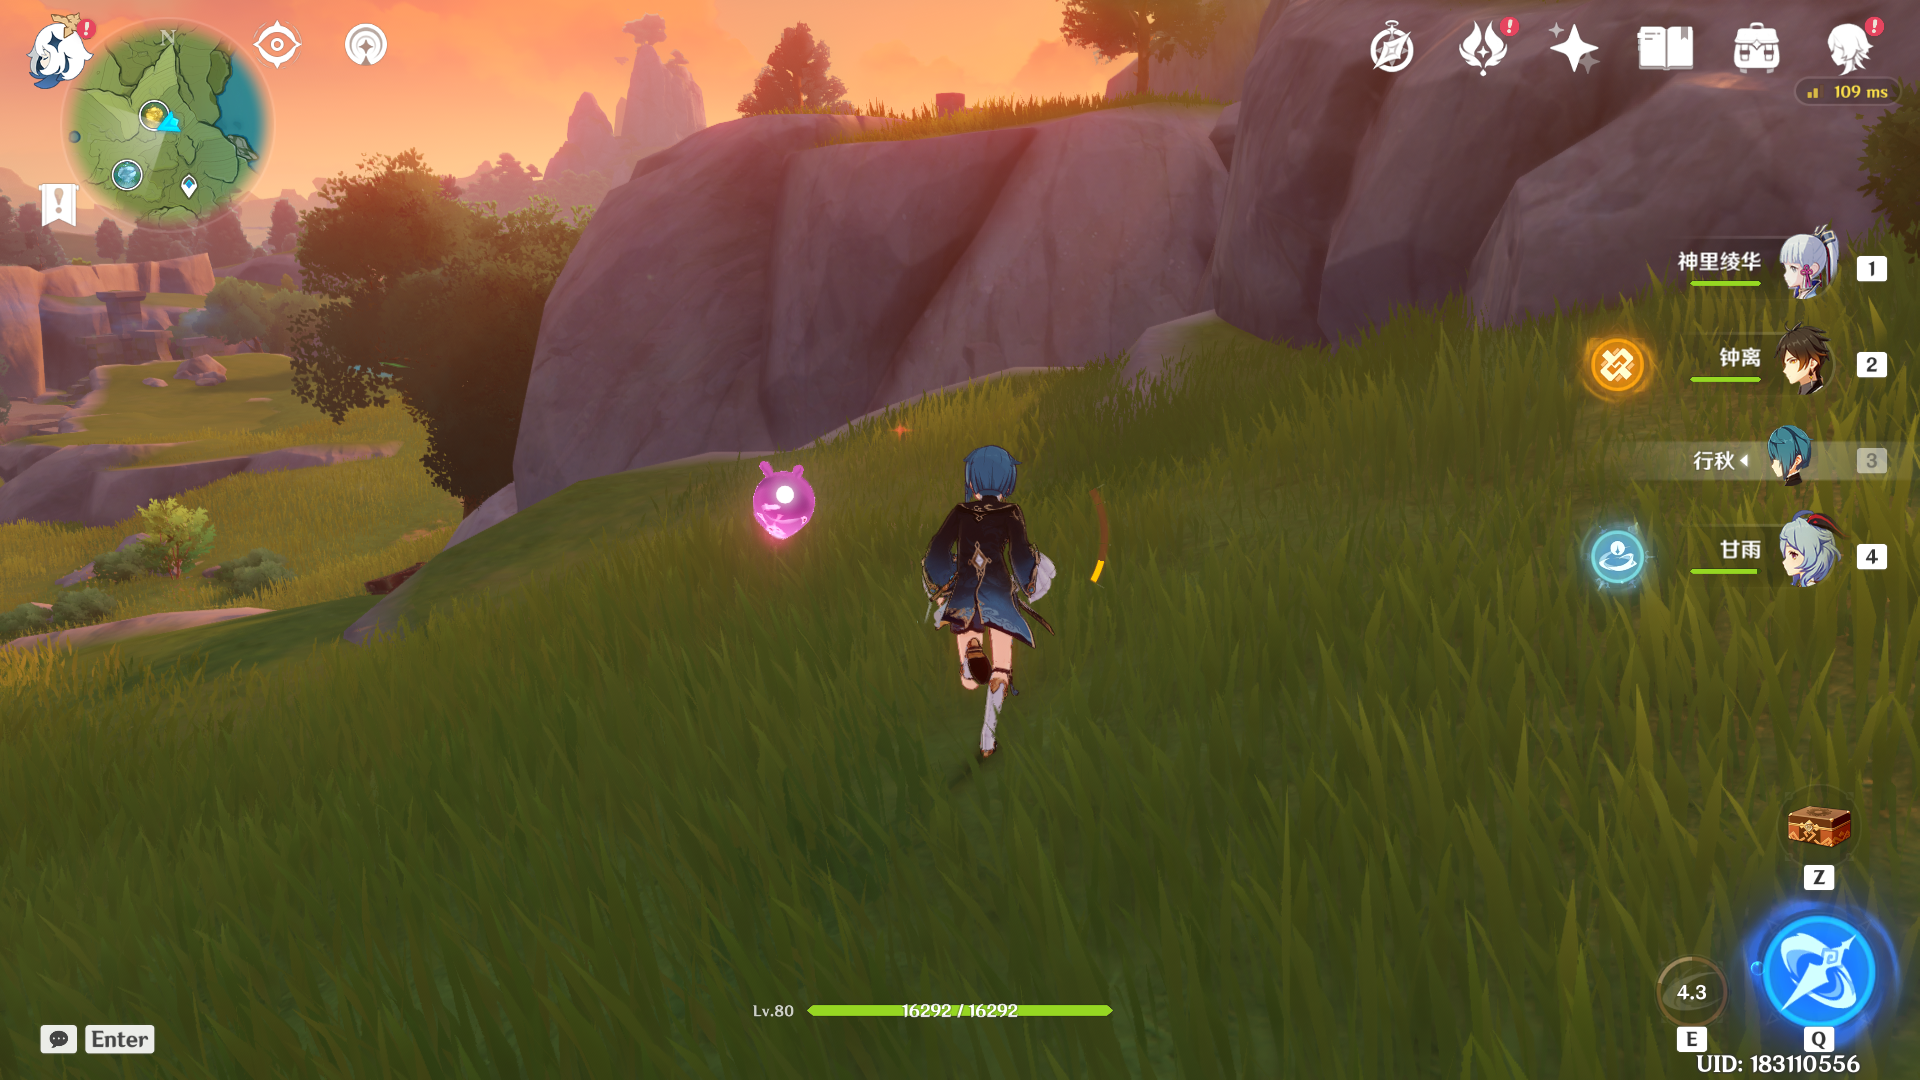character: (877, 389, 1118, 777)
